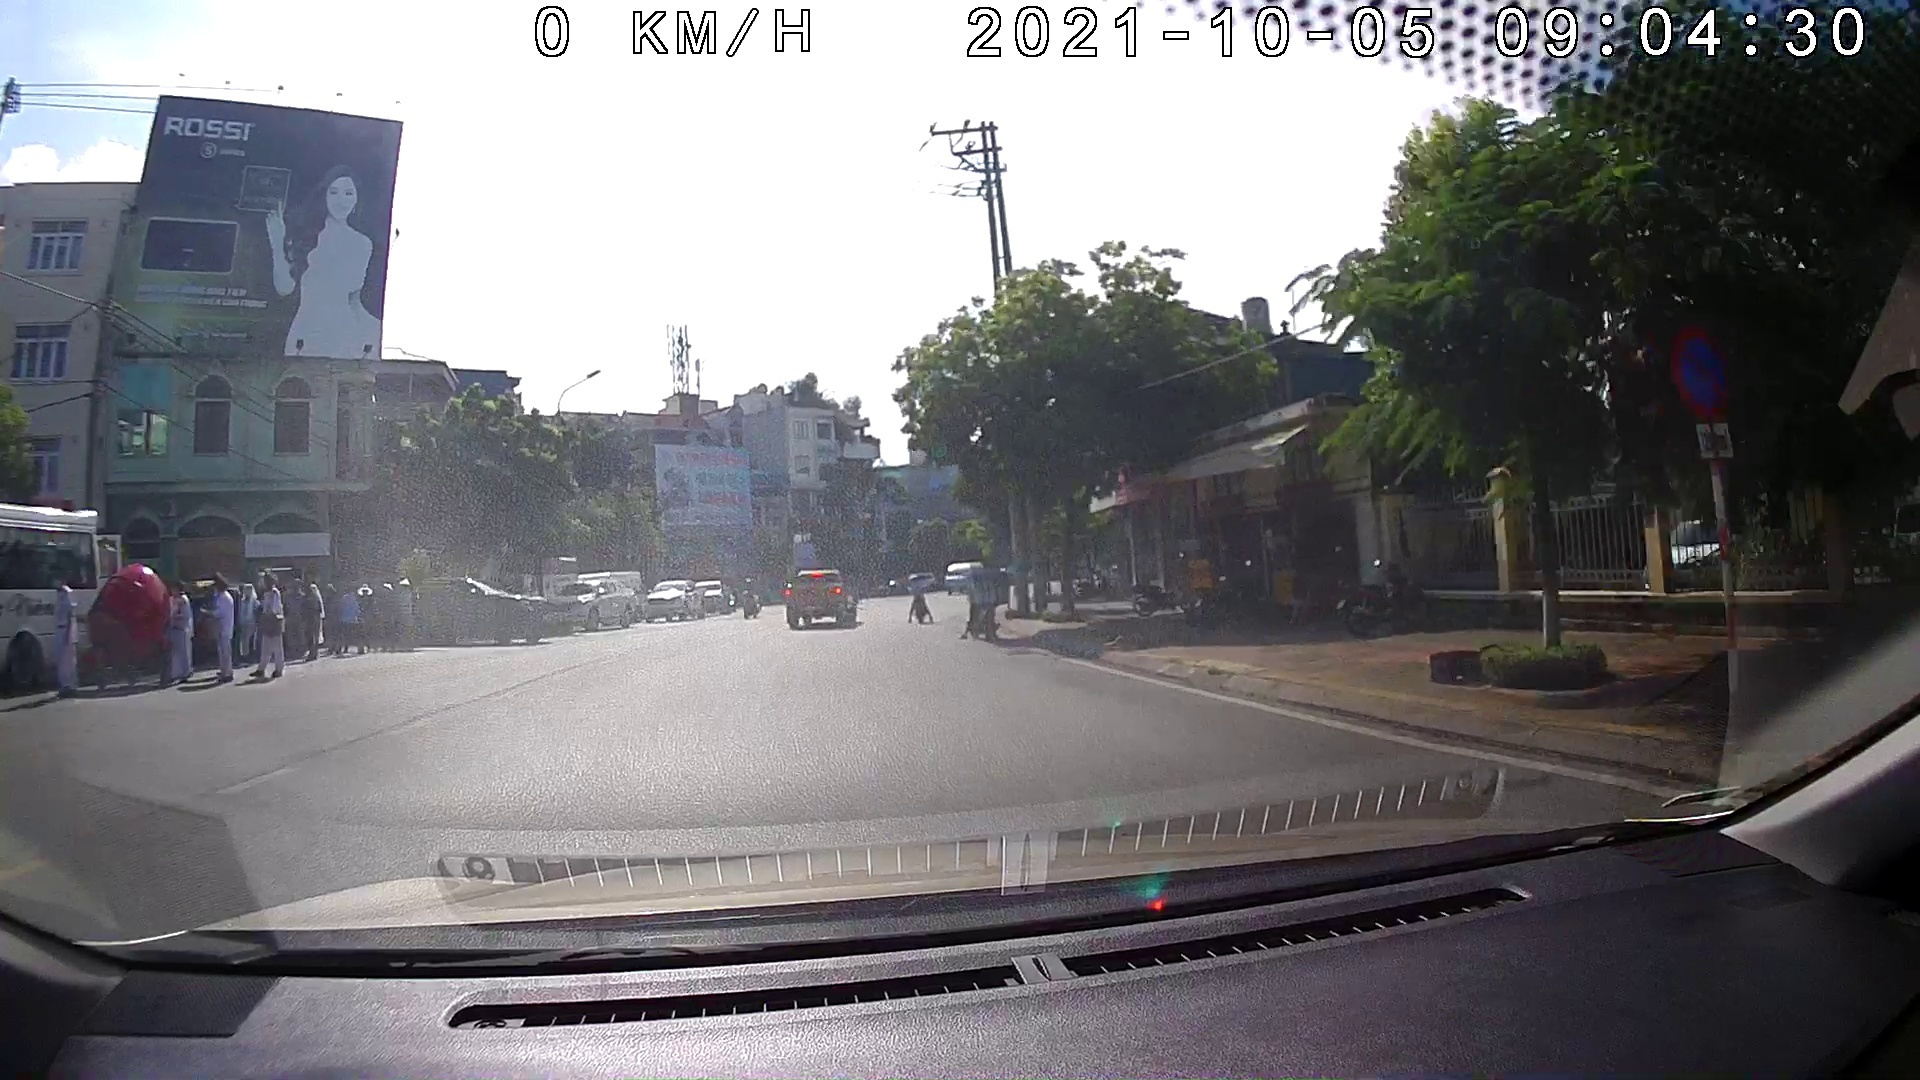Cam do xe: (1667, 326, 1733, 419)
